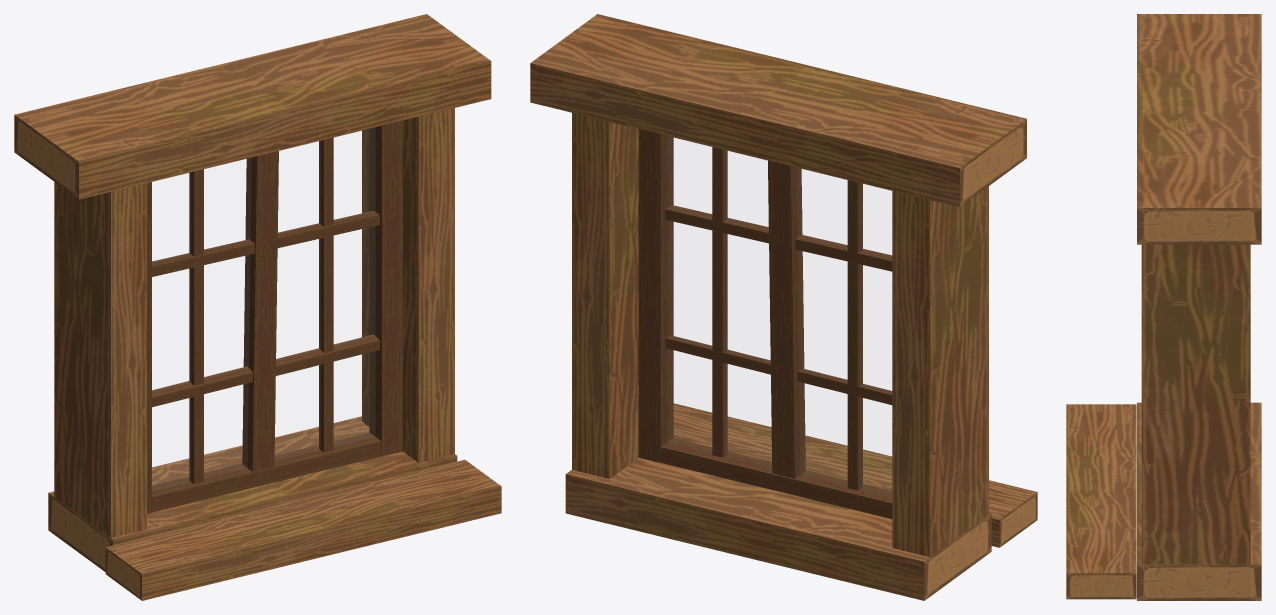
The model's file is window_wide_flat1.gltf.
3 renders of one model, left to right at view 1: azimuth 30°, elevation 25°; view 2: azimuth 150°, elevation 25°; view 3: azimuth 270°, elevation 25°, orthographic. The views are drawn at different scales.
Visible parts, largest first — view 1: Window_Wide_Flat1; view 2: Window_Wide_Flat1; view 3: Window_Wide_Flat1.
Boxes of the visible parts, bbox=[...] form: Window_Wide_Flat1: bbox=[14, 14, 501, 600]; Window_Wide_Flat1: bbox=[530, 14, 1037, 600]; Window_Wide_Flat1: bbox=[1066, 14, 1261, 600].
Size of the model in its own units: 1.61 by 1.58 by 0.6834.
Materials: 2 (1 with a texture image).
